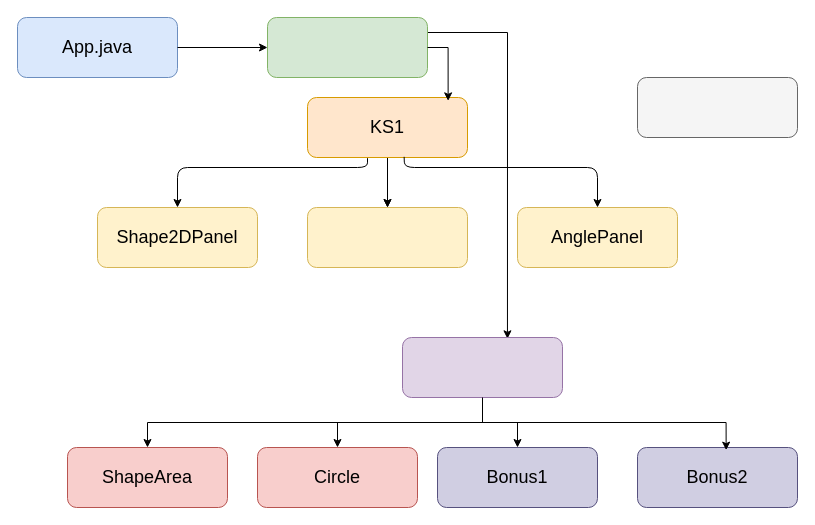
Some shapes in this 815 by 525 pixel diagram are drawn without their labels. Each missing label, with the box of its shape:
End: (636, 76, 798, 138)
KS2: (402, 336, 562, 398)
MainFrame: (266, 16, 428, 78)
Shape3DPanel: (306, 206, 468, 268)
